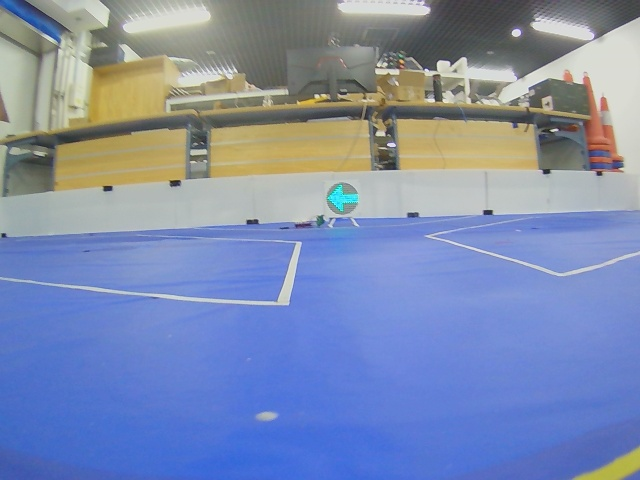left_green: (326, 182, 360, 215)
